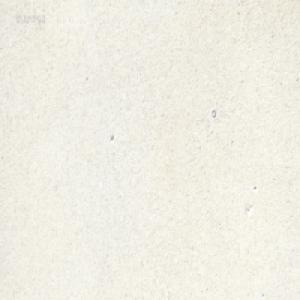Washer: (210, 107, 216, 118)
